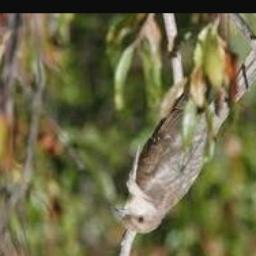Cuckoo: (112, 27, 256, 234)
